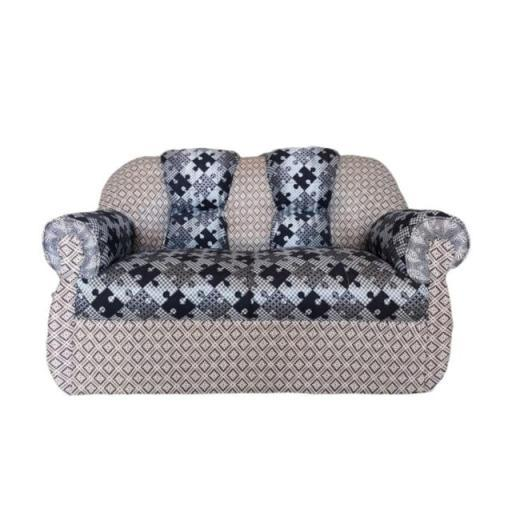sofa: (28, 88, 508, 440)
